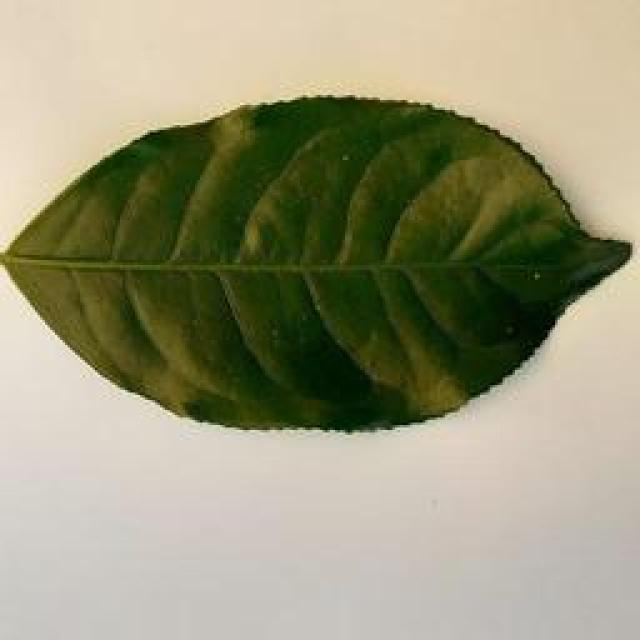Healthy: (2, 88, 640, 444)
